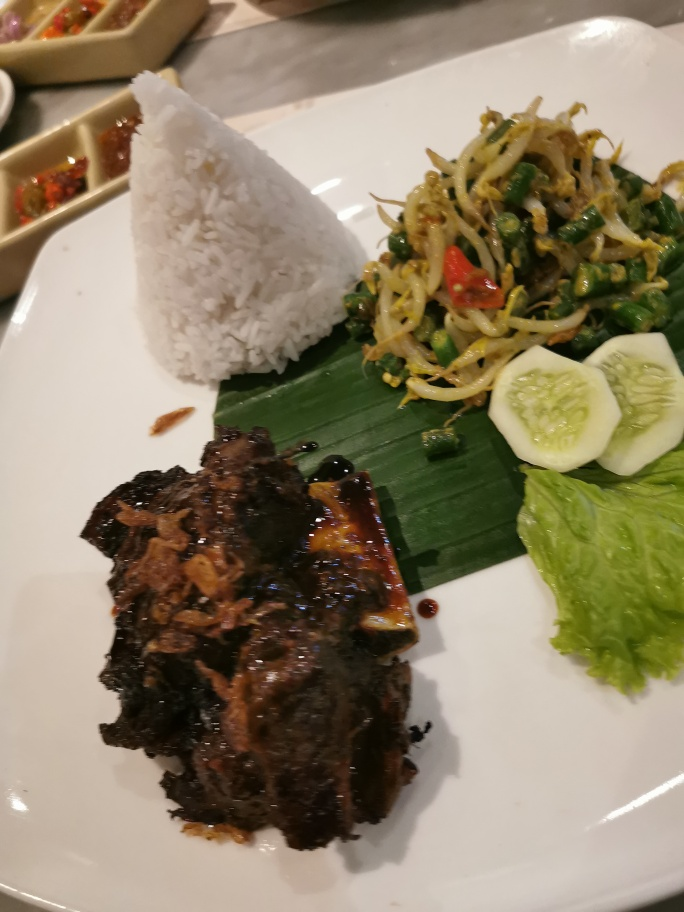iga bakar: (97, 446, 416, 854)
nasi putih: (103, 67, 355, 371)
